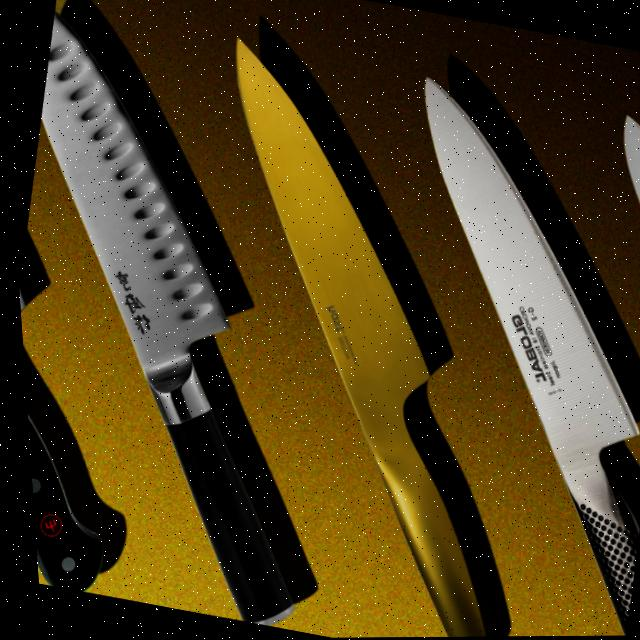knife: (121, 28, 590, 639), (0, 4, 400, 633), (311, 68, 640, 638), (14, 259, 156, 595), (571, 109, 640, 377)
